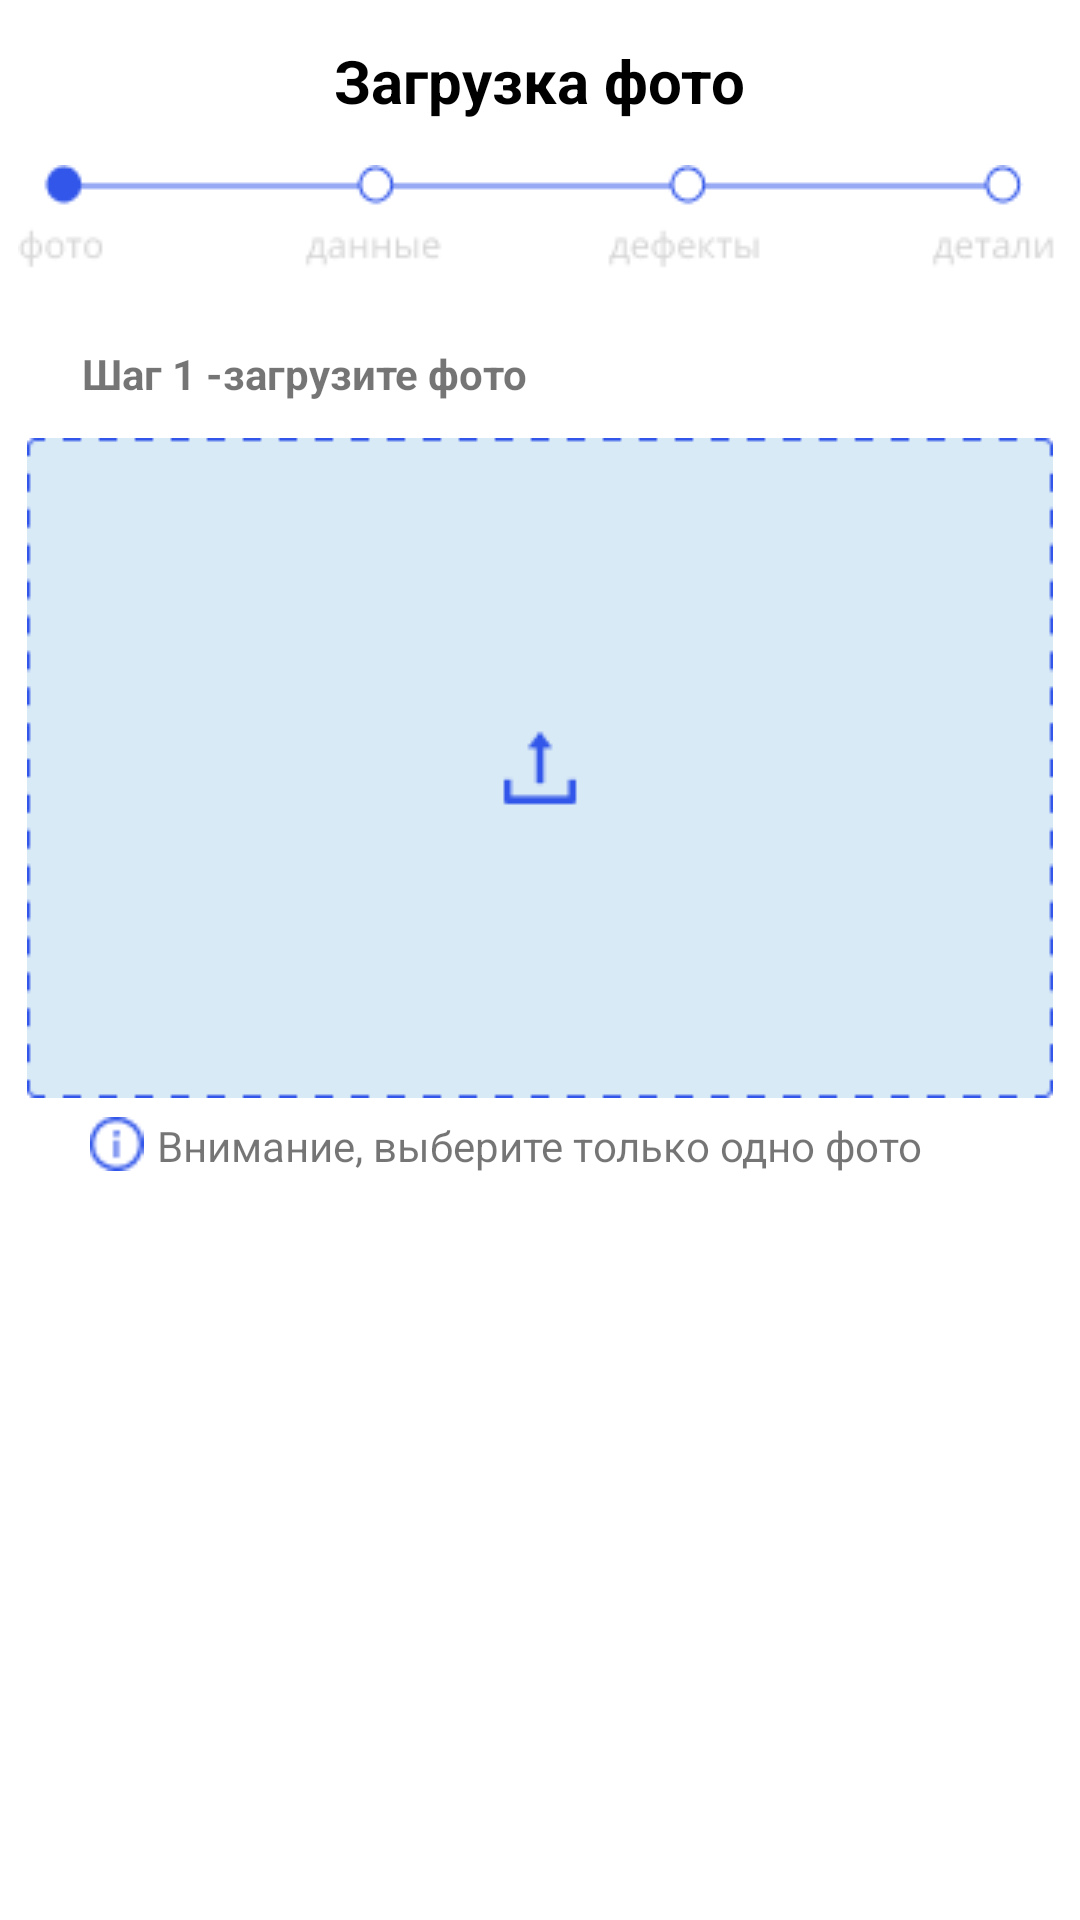

Icon click points for this 1080*1920 phone screenshot, format (x=x, y=y):
info circle: (x=117, y=1144)
